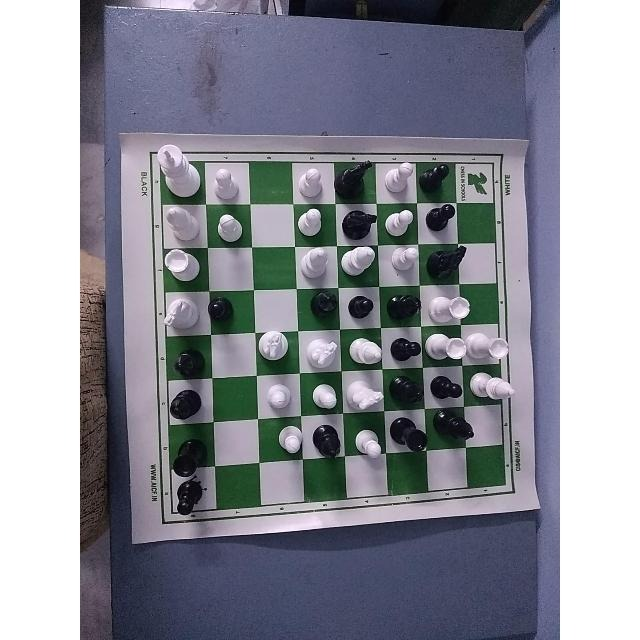black-bishop: (437, 410, 484, 460), (159, 383, 212, 424), (166, 335, 206, 379), (384, 370, 423, 410), (310, 422, 340, 470), (305, 285, 340, 324), (387, 283, 419, 322)
black-knight: (420, 240, 470, 280), (333, 156, 370, 204), (340, 205, 379, 245)
black-pawn: (419, 197, 464, 241), (417, 156, 465, 195), (158, 490, 206, 526), (346, 284, 378, 330), (207, 288, 235, 336), (428, 369, 464, 405), (390, 327, 422, 366)
black-rook: (156, 430, 214, 477), (389, 414, 430, 462)
white-bishop: (149, 201, 205, 245), (340, 332, 384, 372), (470, 369, 518, 405), (335, 247, 380, 283), (294, 239, 329, 284)
white-king: (146, 140, 202, 192)
white-knight: (157, 284, 202, 336), (248, 324, 297, 368), (339, 370, 387, 414), (300, 327, 342, 371)
white-pawn: (258, 408, 305, 462), (282, 156, 328, 201), (210, 159, 250, 206), (284, 200, 328, 240), (382, 151, 418, 198), (212, 203, 252, 245), (260, 378, 299, 418), (383, 196, 415, 243), (349, 423, 382, 465), (310, 374, 343, 415), (384, 240, 417, 276)
white-rook: (426, 279, 473, 323), (470, 319, 514, 361), (158, 248, 206, 280), (426, 329, 466, 365)
